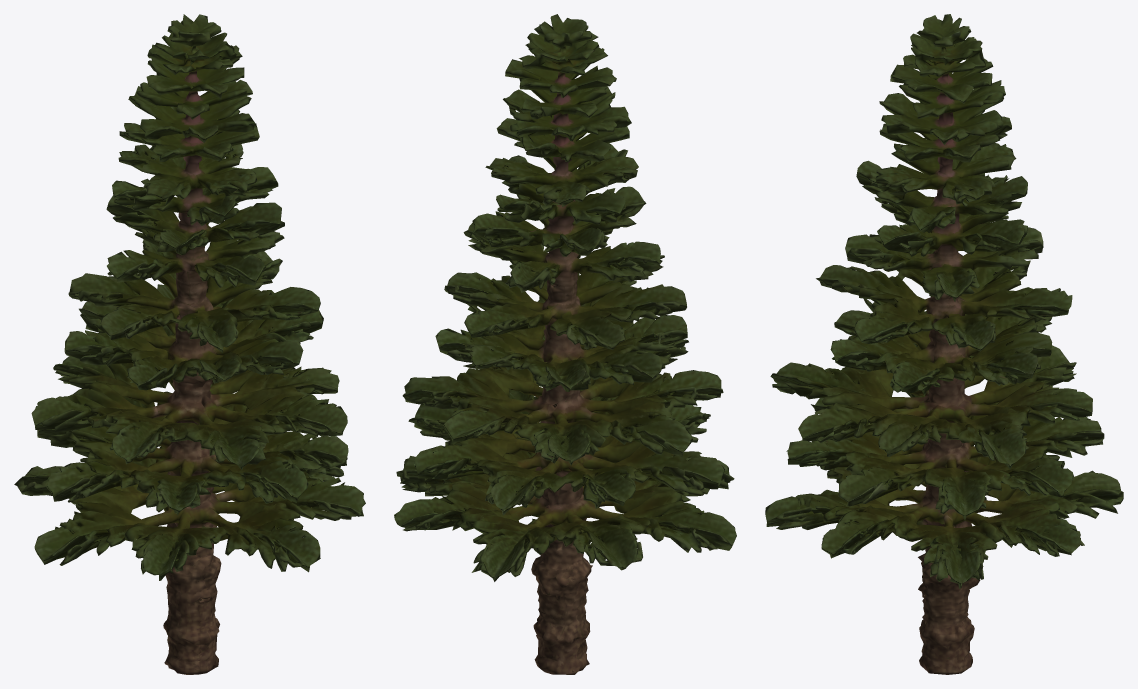
The model's file is tree_65_wollemi_pine.glb.
3 renders of one model, left to right at view 1: azimuth 30°, elevation 25°; view 2: azimuth 150°, elevation 25°; view 3: azimuth 270°, elevation 25°, orthographic.
Parts seen in each view (by area): view 1: world; view 2: world; view 3: world.
Boxes of the visible parts, x1,y1,x2,y2 form: world: (14, 14, 365, 674); world: (394, 14, 736, 674); world: (765, 14, 1123, 674).
Bounding box in the file's own units: 0.5213 × 1 × 0.5083.
Materials: 1 (1 with a texture image).
